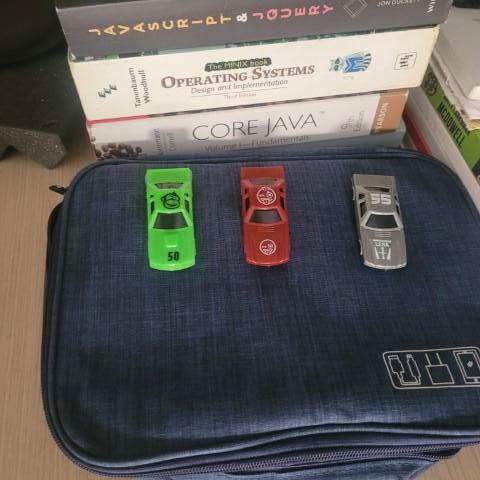car: (345, 168, 413, 271), (141, 161, 199, 276), (237, 160, 294, 268)
